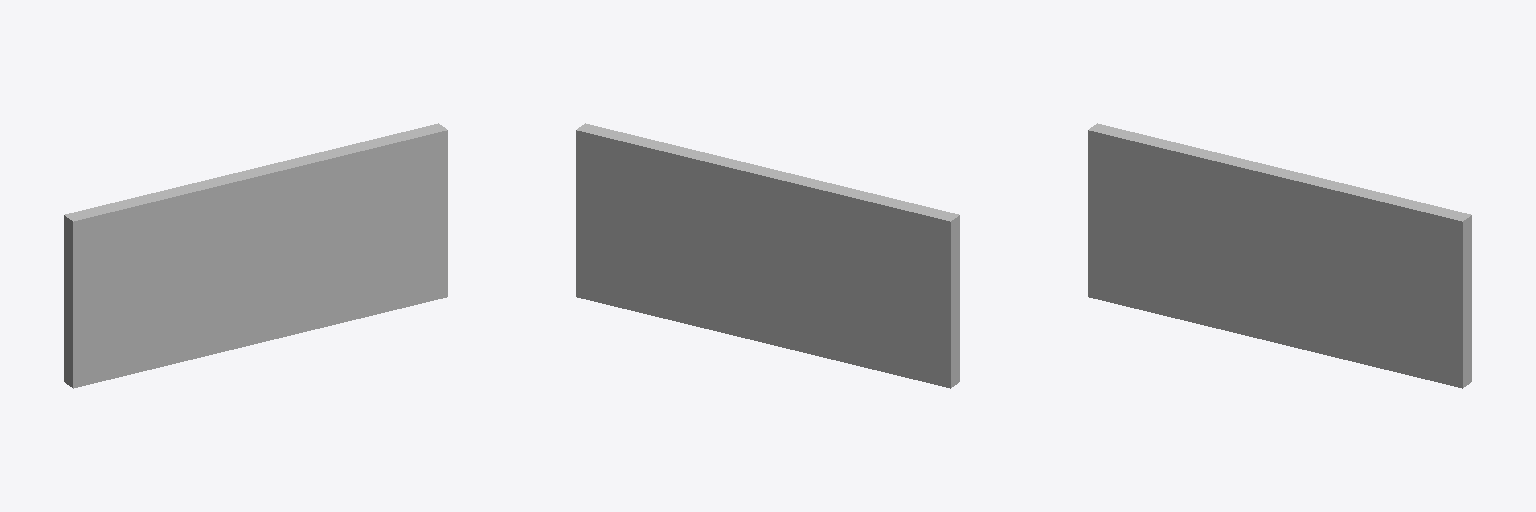
Rendered from Exit.obj.
The picture shows the model from 3 angles: view 1: azimuth 30°, elevation 25°; view 2: azimuth 150°, elevation 25°; view 3: azimuth 330°, elevation 25°; orthographic projection.
Parts seen in each view (by area): view 1: object 1; view 2: object 1; view 3: object 1.
Part boxes in pixels (x1,y1,x2,y2): object 1: (64,123,447,388); object 1: (576,123,959,388); object 1: (1088,123,1471,388).
Bounding box in the file's own units: 4.7 × 2 × 0.2.